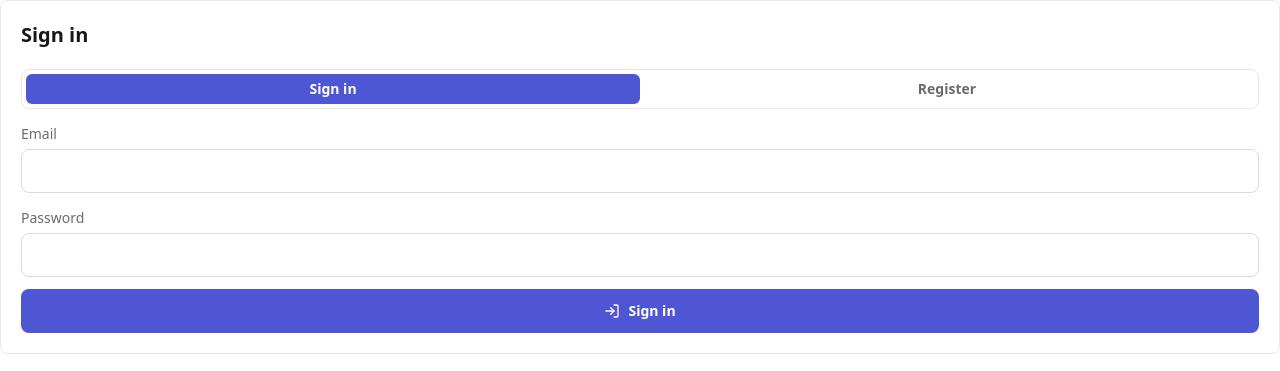
Scenario: AuthPanel › registers a new account with email/password
Click the button "Register".
click(947, 89)  # box [640,74,1254,104]
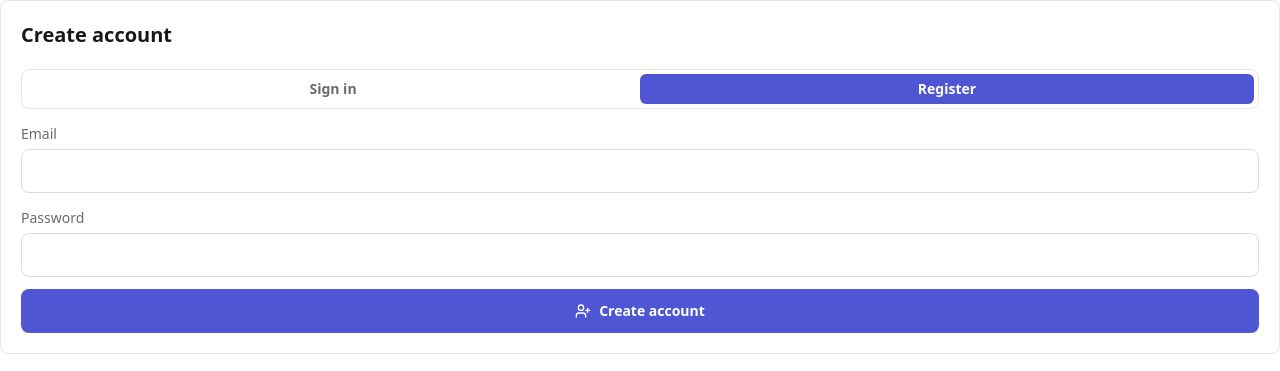
Type "player@example.com" into the field labelled "Email".
click(640, 171); type("player@example.com")  # box [21,149,1259,193]
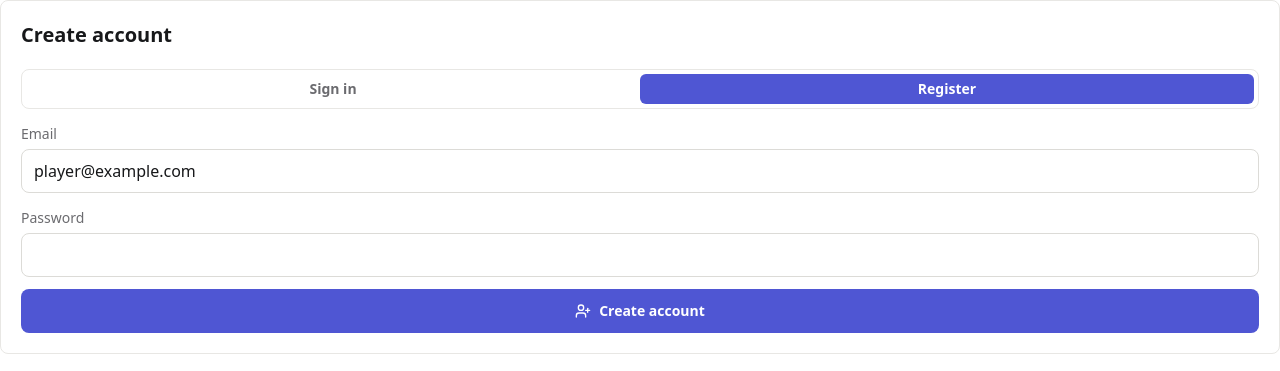
Type "secret" into the password field labelled "Password".
click(640, 255); type("secret")  # box [21,233,1259,277]
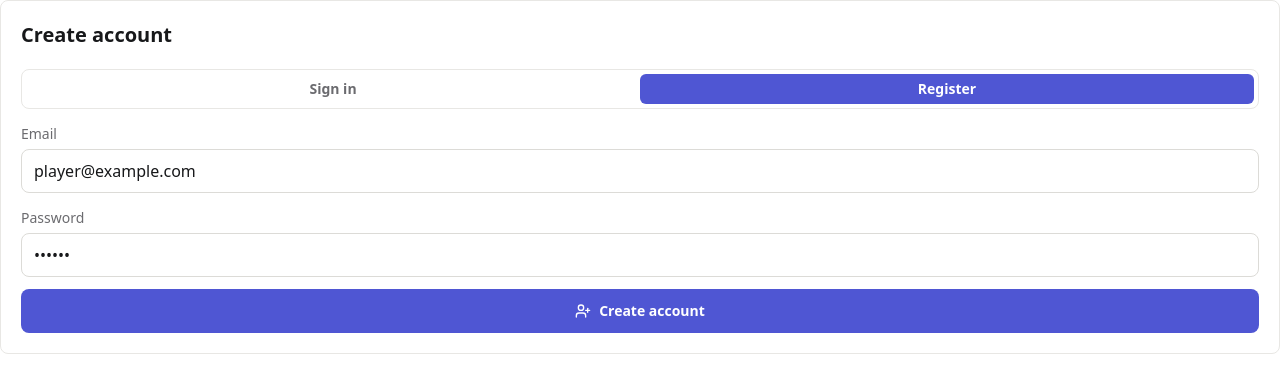
Click the button "Create account".
click(640, 311)  # box [21,289,1259,333]
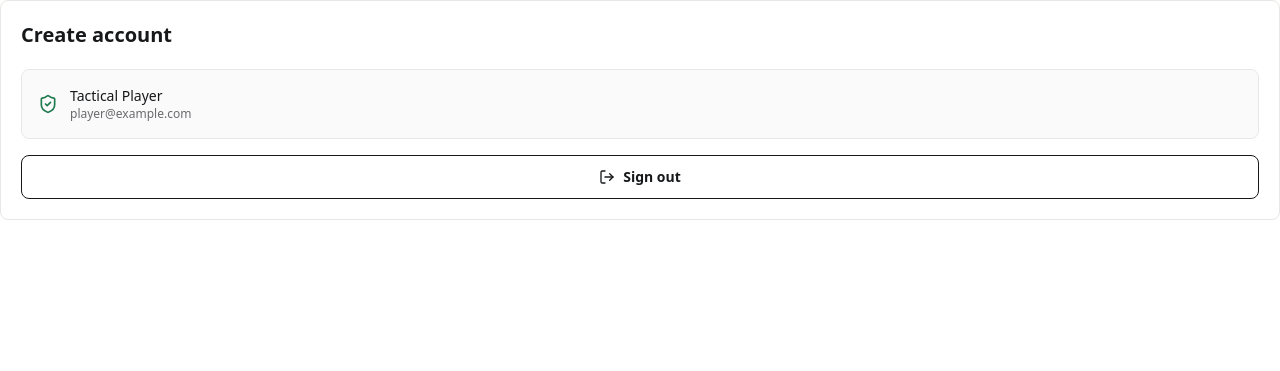
Expected: the text "Tactical Player" is shown, [70,86,162,105]
